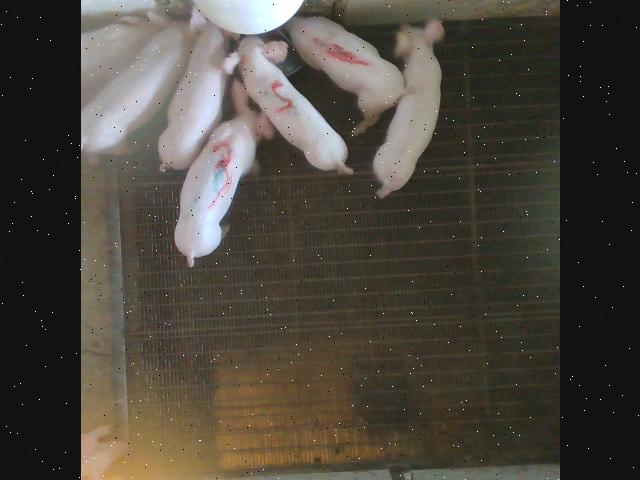pig-1: (284, 16, 404, 135)
pig-3: (174, 80, 274, 266)
pig-5: (223, 38, 351, 174)
